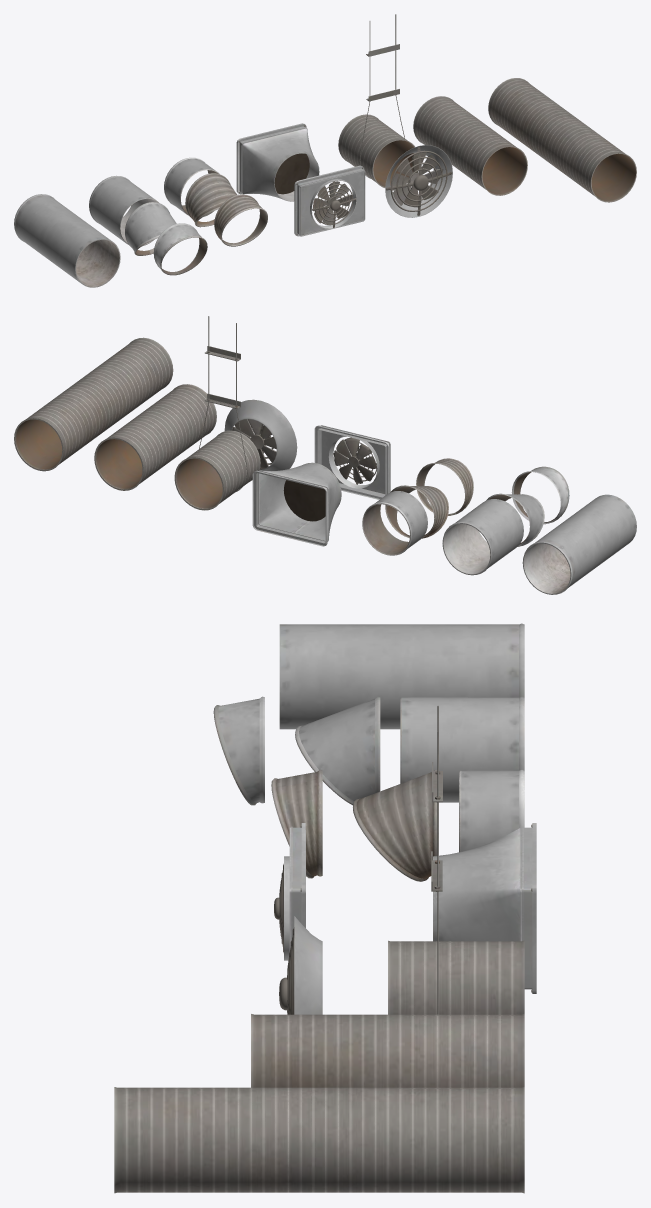
The model's file is modular_airduct_circular_01.glb.
The picture shows the model from 3 angles, top to bottom: view 1: azimuth 30°, elevation 25°; view 2: azimuth 150°, elevation 25°; view 3: azimuth 270°, elevation 25°; orthographic projection. The views are drawn at different scales.
Visible parts, largest first — view 1: modular_airduct_circular_triple, modular_airduct_circular_double, modular_airduct_circular_smooth_triple, modular_airduct_rectangular_converter, modular_airduct_rectangular_vent_fan, modular_airduct_circular_fan, modular_airduct_circular_single, modular_airduct_circular_smooth_double, modular_airduct_circular_bend_half, modular_airduct_circular_smooth_bend_half, modular_airduct_circular_bend_quater, modular_airduct_circular_smooth_bend_quater (+1 smaller); view 2: modular_airduct_circular_triple, modular_airduct_circular_double, modular_airduct_circular_smooth_triple, modular_airduct_rectangular_converter, modular_airduct_circular_single, modular_airduct_circular_smooth_double, modular_airduct_rectangular_vent_fan, modular_airduct_circular_fan, modular_airduct_circular_smooth_single, modular_airduct_circular_bend_half, modular_airduct_circular_bend_quater, modular_airduct_circular_smooth_bend_quater (+2 smaller); view 3: modular_airduct_circular_triple, modular_airduct_circular_smooth_triple, modular_airduct_circular_double, modular_airduct_rectangular_converter, modular_airduct_circular_single, modular_airduct_circular_smooth_double, modular_airduct_circular_smooth_bend_half, modular_airduct_circular_bend_half, modular_airduct_circular_smooth_single, modular_airduct_circular_smooth_bend_quater, modular_airduct_circular_bend_quater, modular_airduct_circular_fan (+1 smaller).
Part boxes in pixels (x1=…): modular_airduct_circular_triple: x1=488, y1=78, x2=636, y2=202; modular_airduct_circular_double: x1=413, y1=96, x2=527, y2=195; modular_airduct_circular_smooth_triple: x1=14, y1=194, x2=120, y2=287; modular_airduct_rectangular_converter: x1=236, y1=123, x2=319, y2=201; modular_airduct_rectangular_vent_fan: x1=294, y1=165, x2=365, y2=236; modular_airduct_circular_fan: x1=385, y1=145, x2=452, y2=217; modular_airduct_circular_single: x1=338, y1=114, x2=414, y2=187; modular_airduct_circular_smooth_double: x1=89, y1=175, x2=158, y2=246; modular_airduct_circular_bend_half: x1=185, y1=173, x2=236, y2=227; modular_airduct_circular_smooth_bend_half: x1=125, y1=202, x2=176, y2=255; modular_airduct_circular_bend_quater: x1=214, y1=194, x2=267, y2=246; modular_airduct_circular_smooth_bend_quater: x1=153, y1=223, x2=207, y2=275; modular_airduct_circular_triple: x1=14, y1=337, x2=173, y2=471; modular_airduct_circular_double: x1=94, y1=384, x2=216, y2=490; modular_airduct_circular_smooth_triple: x1=522, y1=494, x2=636, y2=594; modular_airduct_rectangular_converter: x1=252, y1=462, x2=341, y2=546; modular_airduct_circular_single: x1=174, y1=430, x2=260, y2=510; modular_airduct_circular_smooth_double: x1=442, y1=499, x2=523, y2=575; modular_airduct_rectangular_vent_fan: x1=314, y1=425, x2=390, y2=499; modular_airduct_circular_fan: x1=224, y1=399, x2=297, y2=470; modular_airduct_circular_smooth_single: x1=362, y1=491, x2=427, y2=555; modular_airduct_circular_bend_half: x1=385, y1=485, x2=448, y2=538; modular_airduct_circular_bend_quater: x1=416, y1=458, x2=473, y2=515; modular_airduct_circular_smooth_bend_quater: x1=511, y1=466, x2=569, y2=524; modular_airduct_circular_triple: x1=114, y1=1087, x2=524, y2=1193; modular_airduct_circular_smooth_triple: x1=279, y1=623, x2=524, y2=729; modular_airduct_circular_double: x1=251, y1=1013, x2=524, y2=1087; modular_airduct_rectangular_converter: x1=433, y1=823, x2=536, y2=993; modular_airduct_circular_single: x1=388, y1=940, x2=524, y2=1014; modular_airduct_circular_smooth_double: x1=400, y1=696, x2=524, y2=802; modular_airduct_circular_smooth_bend_half: x1=295, y1=696, x2=380, y2=805; modular_airduct_circular_bend_half: x1=353, y1=769, x2=437, y2=881; modular_airduct_circular_smooth_single: x1=459, y1=770, x2=524, y2=852; modular_airduct_circular_smooth_bend_quater: x1=213, y1=696, x2=264, y2=805; modular_airduct_circular_bend_quater: x1=271, y1=770, x2=322, y2=878; modular_airduct_circular_fan: x1=279, y1=916, x2=322, y2=1014.
Size of the model in its own units: 4.17 by 1.32 by 1.46.
1 material, 1 textured.
